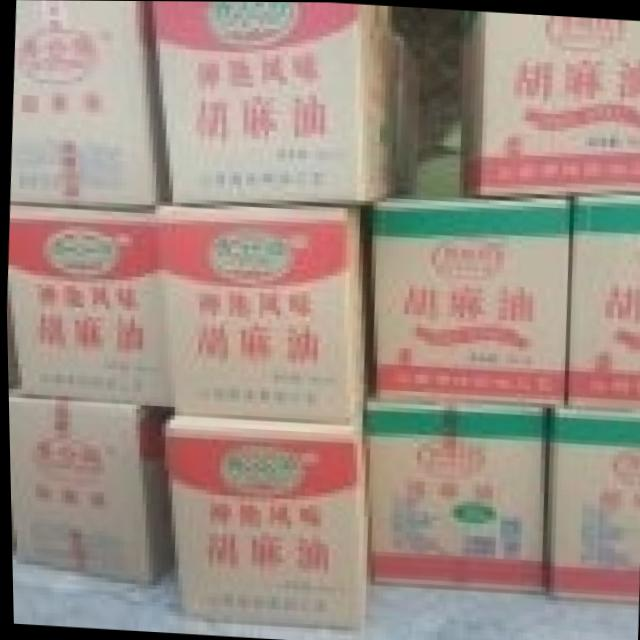box: (150, 1, 399, 206), (163, 208, 366, 430), (164, 415, 368, 631), (370, 195, 566, 408), (366, 397, 547, 591), (7, 206, 177, 411), (455, 11, 640, 198), (7, 389, 176, 581), (9, 0, 154, 205), (547, 408, 640, 600), (566, 195, 640, 408)
